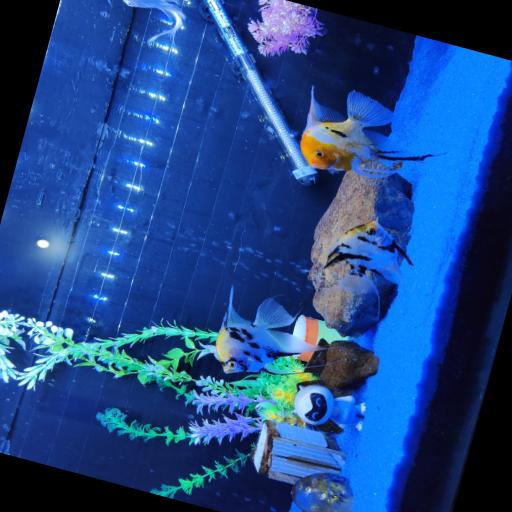Fish: (301, 88, 433, 177), (215, 286, 321, 372), (324, 220, 413, 295), (124, 0, 185, 43)
